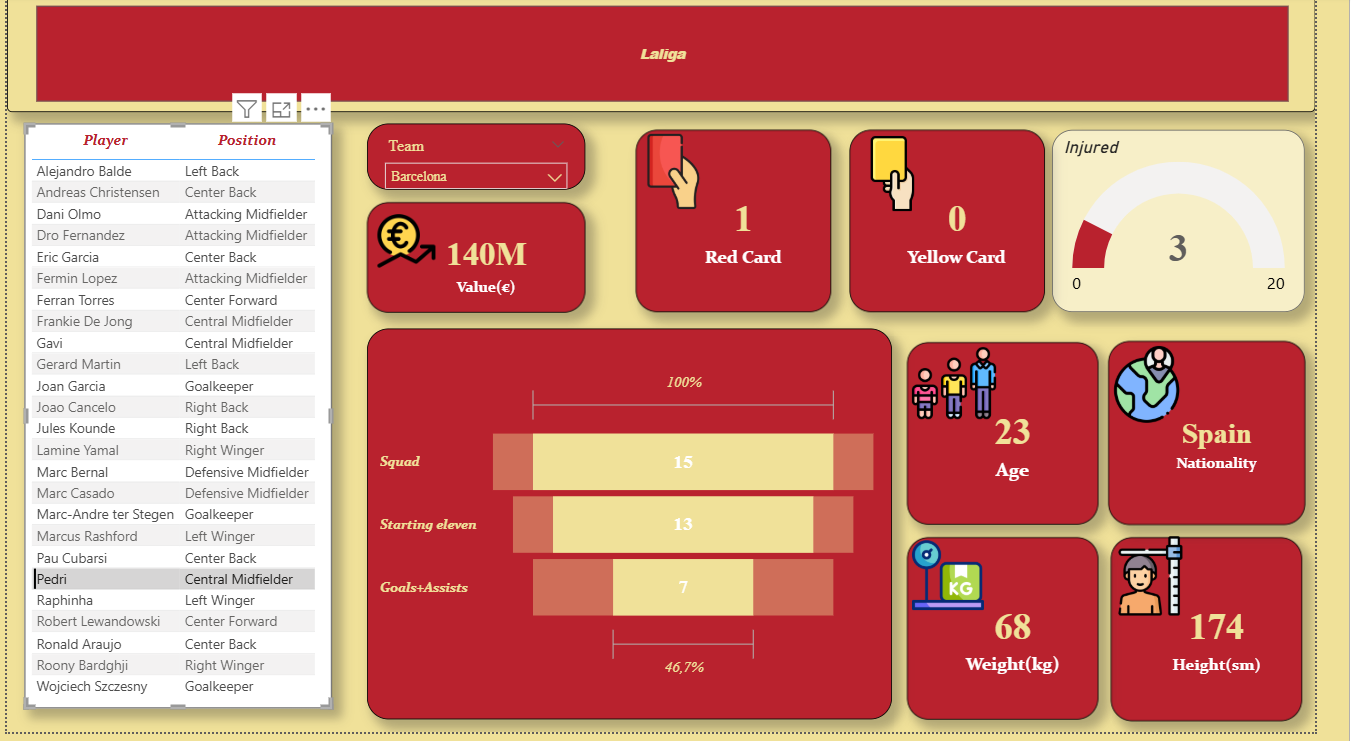

What the dashboard file says about the page in this screenshot:
{"tool":"powerbi","page":{"name":"Player","canvas":[1280,720],"ordinal":3},"visuals":[{"type":"tableEx","fields":{"Values":["Players.Player","Players.Position"]},"box":[17.1,124.7,300.8,572.3],"z":0},{"type":"slicer","fields":{"Values":["Players.League"]},"box":[0,0,1280.3,113.7],"z":1000},{"type":"advanceCardE03760C5AB684758B56AA29F9E6C257B","fields":{"mainMeasure":["Max(Players.Yellow_card)"]},"box":[823.8,131.2,191.2,178.8],"z":2000},{"type":"advanceCardE03760C5AB684758B56AA29F9E6C257B","fields":{"mainMeasure":["Max(Players.Red_card)"]},"box":[615,131.2,191.2,178.8],"z":3000},{"type":"advanceCardE03760C5AB684758B56AA29F9E6C257B","fields":{"mainMeasure":["Max(Players.Age)"]},"box":[880,338.8,187.5,178.8],"z":4000},{"type":"advanceCardE03760C5AB684758B56AA29F9E6C257B","fields":{"mainMeasure":["Max(Players.Height(sm))"]},"box":[1080,530,187.5,180],"z":5000},{"type":"advanceCardE03760C5AB684758B56AA29F9E6C257B","fields":{"mainMeasure":["Max(Players.Weight(kg))"]},"box":[880,530,187.5,178.8],"z":6000},{"type":"advanceCardE03760C5AB684758B56AA29F9E6C257B","fields":{"mainMeasure":["Min(Players.Nationality)"]},"box":[1077.5,337.5,192.5,180],"z":7000},{"type":"gauge","fields":{"Y":["Max(Players.Injured)"]},"box":[1022.5,131.2,247.5,178.8],"z":8000},{"type":"image","box":[880,337.5,92.5,82.5],"z":9000},{"type":"image","box":[823.8,136.2,83.8,76.2],"z":10000},{"type":"image","box":[615,131.2,73.8,81.2],"z":11000},{"type":"image","box":[885,526.2,70,81.2],"z":12000},{"type":"image","box":[1080,520,77.5,95],"z":13000},{"type":"image","box":[1077.5,340,75,80],"z":14000},{"type":"slicer","fields":{"Values":["Clubs.Team"]},"box":[352.5,125,213.8,65],"z":15000},{"type":"advanceCardE03760C5AB684758B56AA29F9E6C257B","fields":{"mainMeasure":["Max(Players.Value(€))"]},"box":[352.2,201.8,214,107.6],"z":16000},{"type":"image","box":[360.7,211.6,59.9,56.3],"z":17000},{"type":"funnel","fields":{"Y":["Max(Players.Squad)","Max(Players.Starting eleven)","Max(Players.Goals+Assists)"]},"box":[352.2,325.3,513.6,382.7],"z":18000}]}

Visuals, with their boxes in screenshot pixels (x1, y1, x2, y2), scaled from the page's 1280x720 canvas onto the 1351x741 screenshot:
tableEx - Players.Player x Players.Position: crop(18, 128, 336, 717)
slicer - Players.League: crop(0, 0, 1350, 117)
advanceCardE03760C5AB684758B56AA29F9E6C257B - Max(Players.Yellow_card): crop(869, 135, 1071, 319)
advanceCardE03760C5AB684758B56AA29F9E6C257B - Max(Players.Red_card): crop(649, 135, 851, 319)
advanceCardE03760C5AB684758B56AA29F9E6C257B - Max(Players.Age): crop(929, 349, 1127, 533)
advanceCardE03760C5AB684758B56AA29F9E6C257B - Max(Players.Height(sm)): crop(1140, 545, 1338, 731)
advanceCardE03760C5AB684758B56AA29F9E6C257B - Max(Players.Weight(kg)): crop(929, 545, 1127, 729)
advanceCardE03760C5AB684758B56AA29F9E6C257B - Min(Players.Nationality): crop(1137, 347, 1340, 533)
gauge - Max(Players.Injured): crop(1079, 135, 1340, 319)
image: crop(929, 347, 1026, 432)
image: crop(869, 140, 958, 219)
image: crop(649, 135, 727, 219)
image: crop(934, 542, 1008, 625)
image: crop(1140, 535, 1222, 633)
image: crop(1137, 350, 1216, 432)
slicer - Clubs.Team: crop(372, 129, 598, 196)
advanceCardE03760C5AB684758B56AA29F9E6C257B - Max(Players.Value(€)): crop(372, 208, 598, 318)
image: crop(381, 218, 444, 276)
funnel - Max(Players.Squad) x Max(Players.Starting eleven): crop(372, 335, 914, 729)
